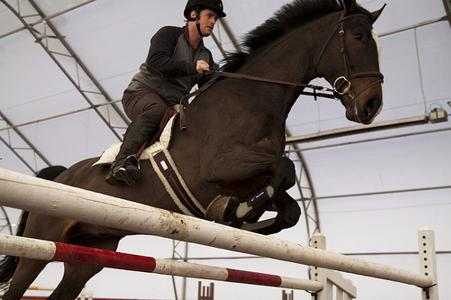person: (107, 1, 230, 186)
